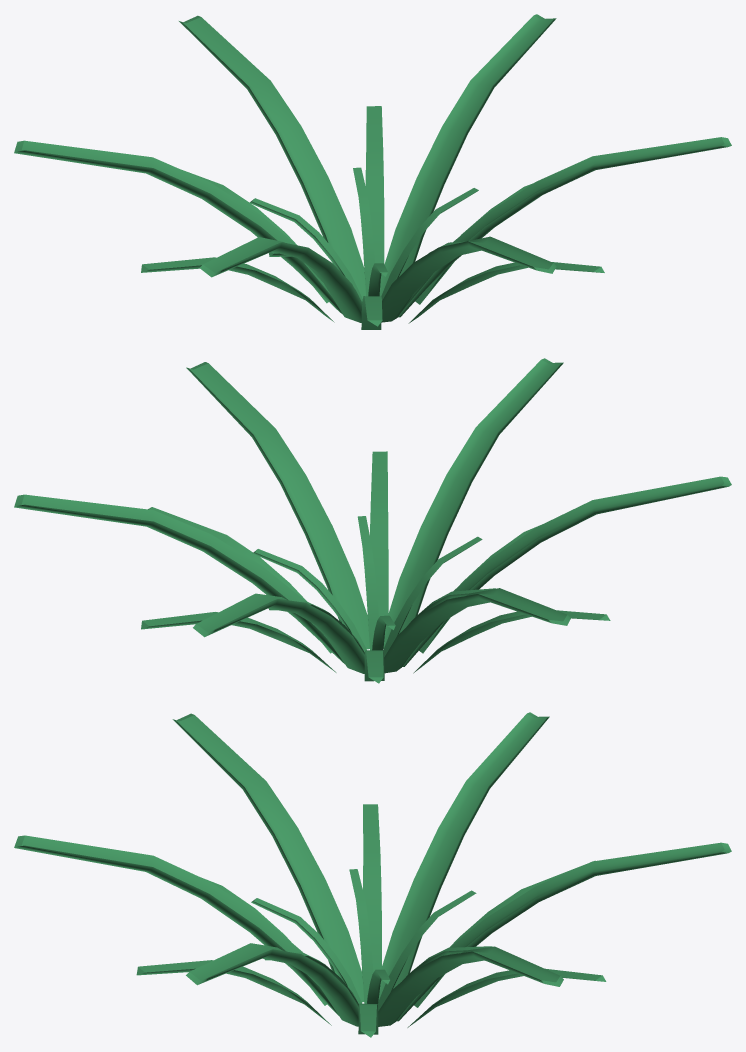
File: PlantC.fbx
The picture shows the model from 3 angles, top to bottom: view 1: azimuth 30°, elevation 25°; view 2: azimuth 150°, elevation 25°; view 3: azimuth 270°, elevation 25°; orthographic projection.
Visible parts, largest first — view 1: PlantC; view 2: PlantC; view 3: PlantC.
Boxes of the visible parts, x1,y1,x2,y2 form: PlantC: (14,14,731,329); PlantC: (14,358,731,683); PlantC: (14,712,731,1037).
Bounding box in the file's own units: 762 × 231 × 865.
